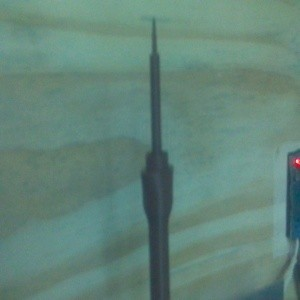solder: (140, 15, 176, 300)
